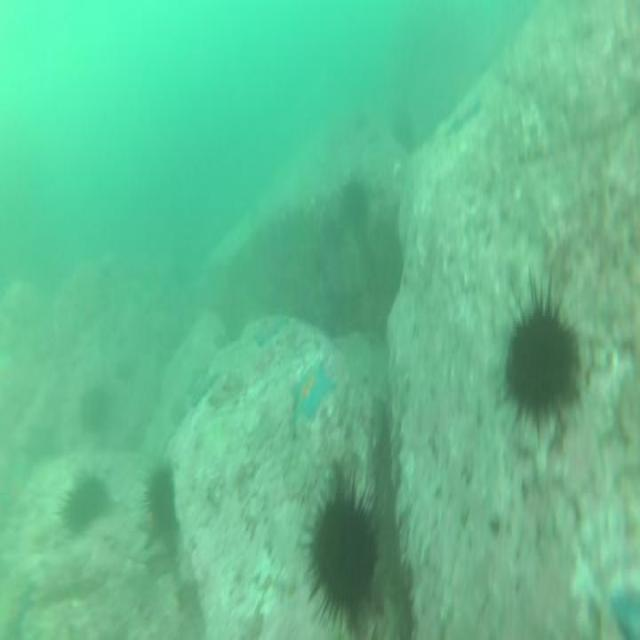echinus: (493, 275, 585, 447), (297, 476, 383, 635), (59, 465, 110, 542), (145, 461, 179, 531), (337, 175, 373, 237), (78, 381, 110, 433), (390, 108, 419, 156)
starfish: (288, 360, 338, 425), (610, 583, 640, 640), (252, 310, 290, 351), (183, 364, 211, 404)
